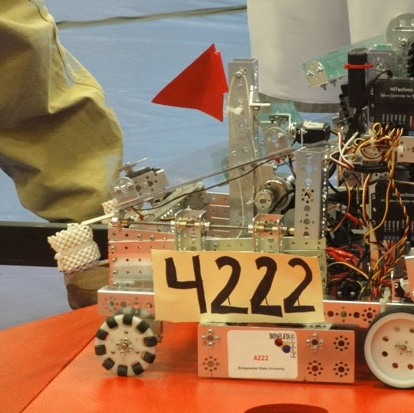robot: (44, 9, 414, 393)
